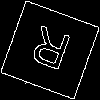R: (25, 25, 74, 81)
